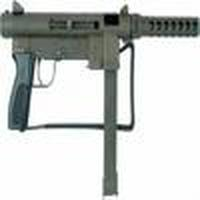gun: (1, 2, 200, 134)
